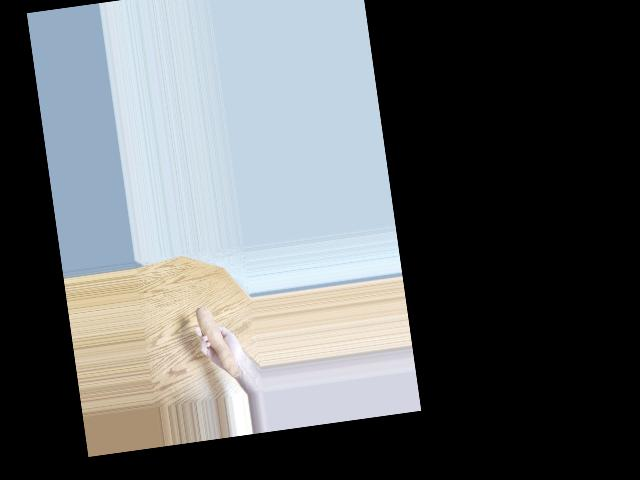sweet_potato: (193, 301, 242, 382)
